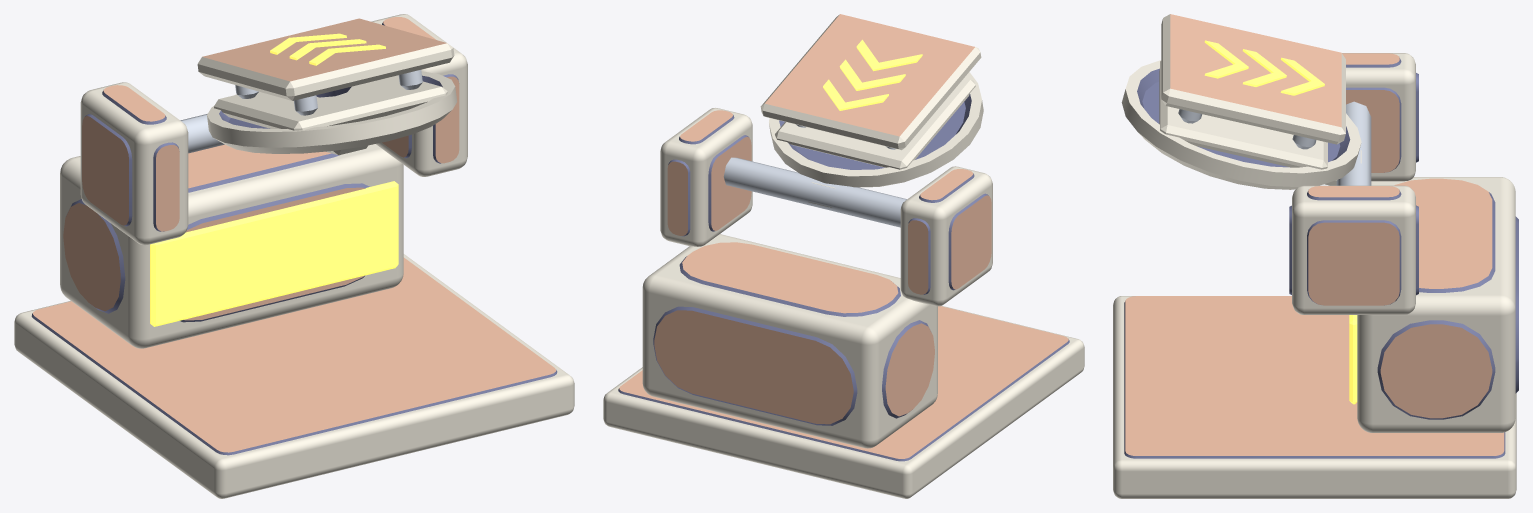
File: R4X_KnockbackTrapDeployer.fbx
3 views of the same model, side by side, from view 1: azimuth 30°, elevation 25°; view 2: azimuth 150°, elevation 25°; view 3: azimuth 270°, elevation 25° (orthographic). The views are drawn at different scales.
Visible parts, largest first — view 1: R4X_KnockbackTrapDeployer_Body, R4X_KnockbackTrapDeployer_Payload; view 2: R4X_KnockbackTrapDeployer_Body, R4X_KnockbackTrapDeployer_Payload; view 3: R4X_KnockbackTrapDeployer_Body, R4X_KnockbackTrapDeployer_Payload.
Boxes of the visible parts, bbox=[...] form: R4X_KnockbackTrapDeployer_Body: bbox=[14, 14, 574, 498]; R4X_KnockbackTrapDeployer_Payload: bbox=[197, 18, 454, 130]; R4X_KnockbackTrapDeployer_Body: bbox=[603, 72, 1084, 498]; R4X_KnockbackTrapDeployer_Payload: bbox=[760, 14, 981, 169]; R4X_KnockbackTrapDeployer_Body: bbox=[1113, 53, 1518, 498]; R4X_KnockbackTrapDeployer_Payload: bbox=[1159, 14, 1345, 169].
Size of the model in its own units: 0.514 by 0.5166 by 0.517.
